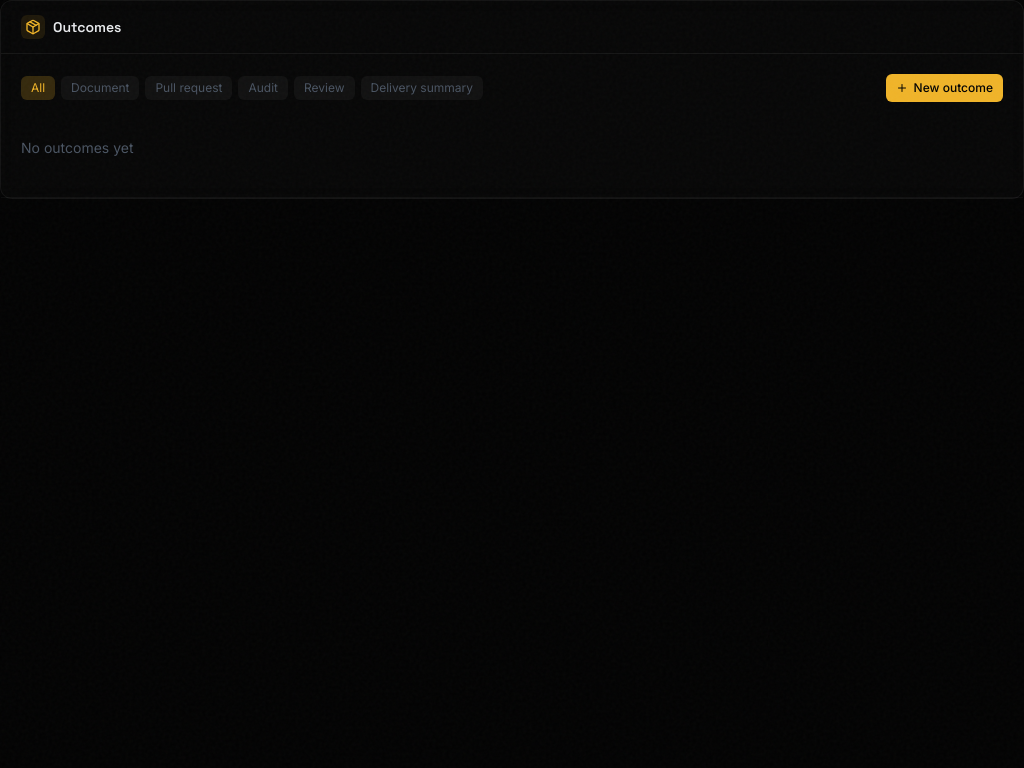
Test case: ProjectOutcomesPanel — VAL-OUT-004, VAL-OUT-005, VAL-OUT-008, VAL-OUT-009 › blocks creating an outcome with an empty title
Click the button with aria-label "create outcome": (944, 88) [886,74,1003,102]
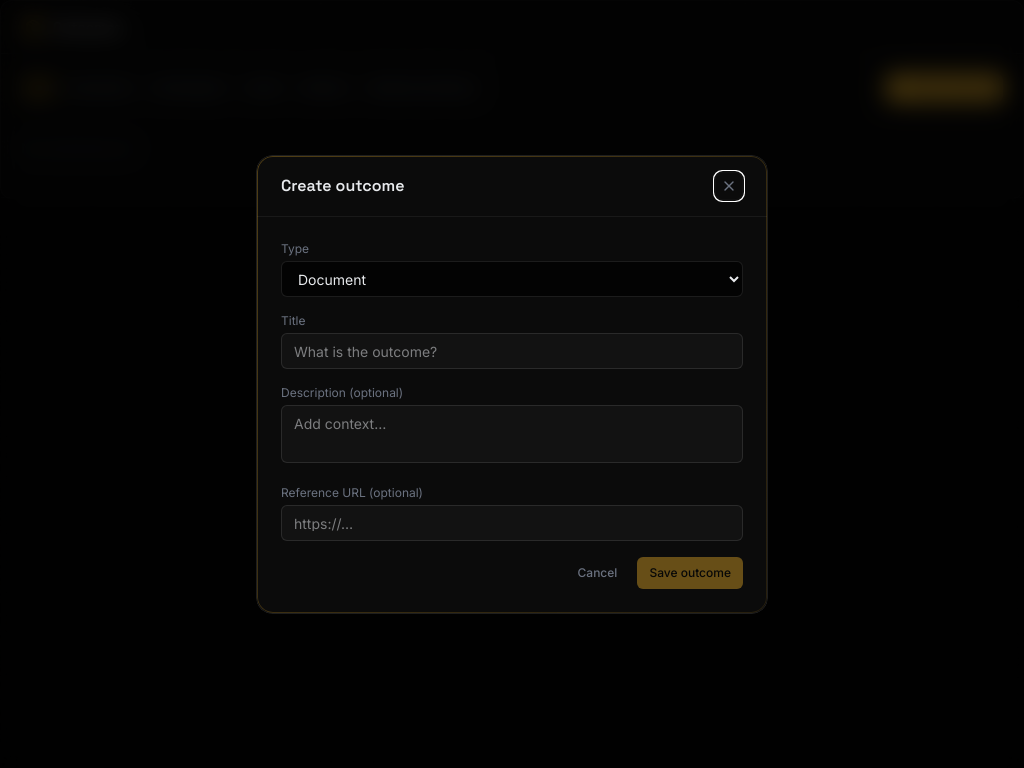
expect the button "Save outcome" is disabled: met, box [637,556,743,588]
